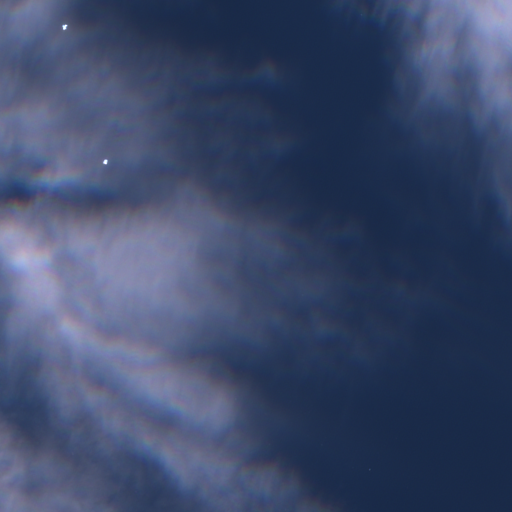Iceberg: (62, 24, 67, 29), (103, 159, 107, 164), (369, 469, 370, 470)
